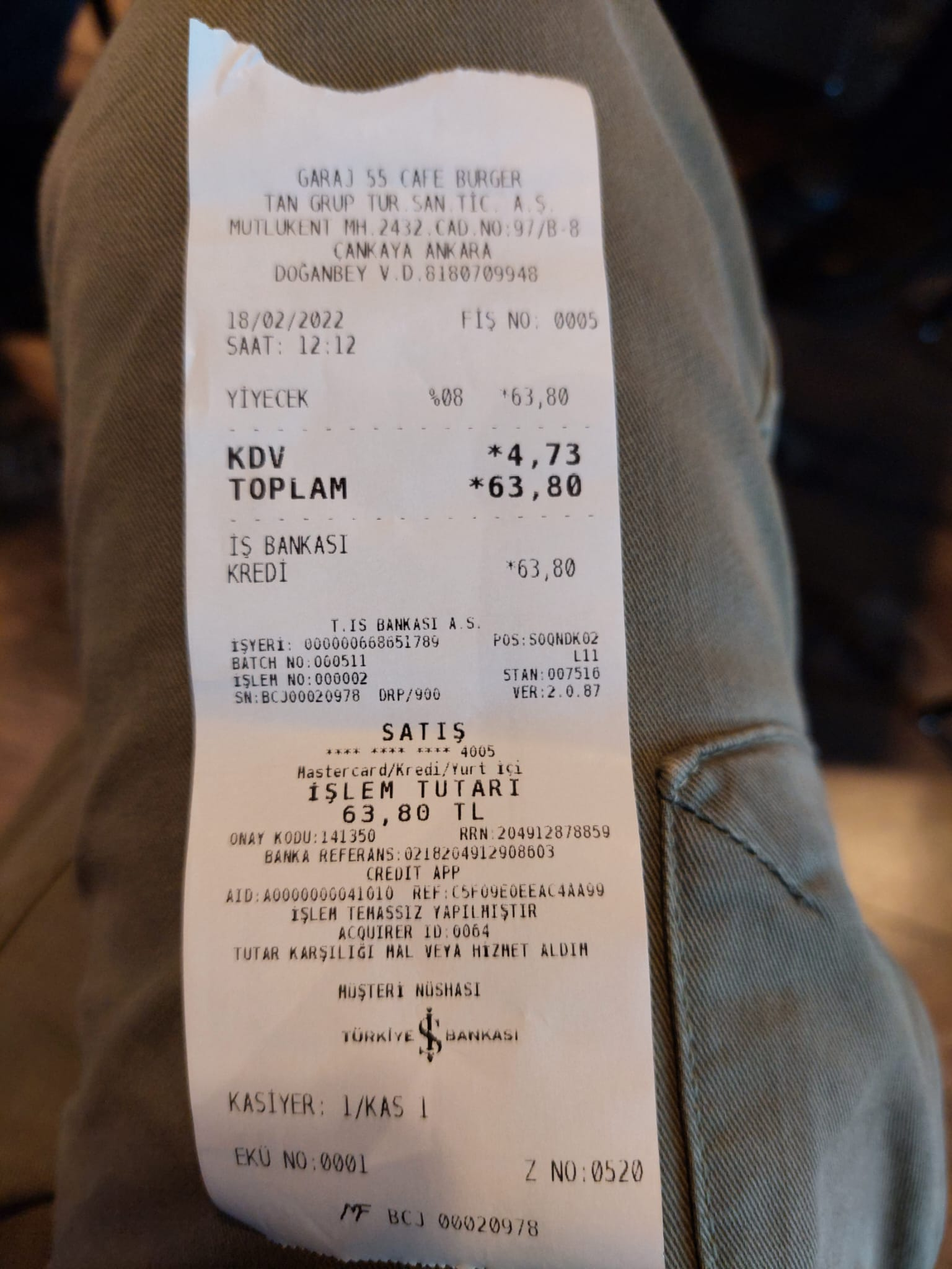date: (479, 467, 593, 506)
price: (221, 304, 352, 334)
workplace: (220, 149, 588, 261)
